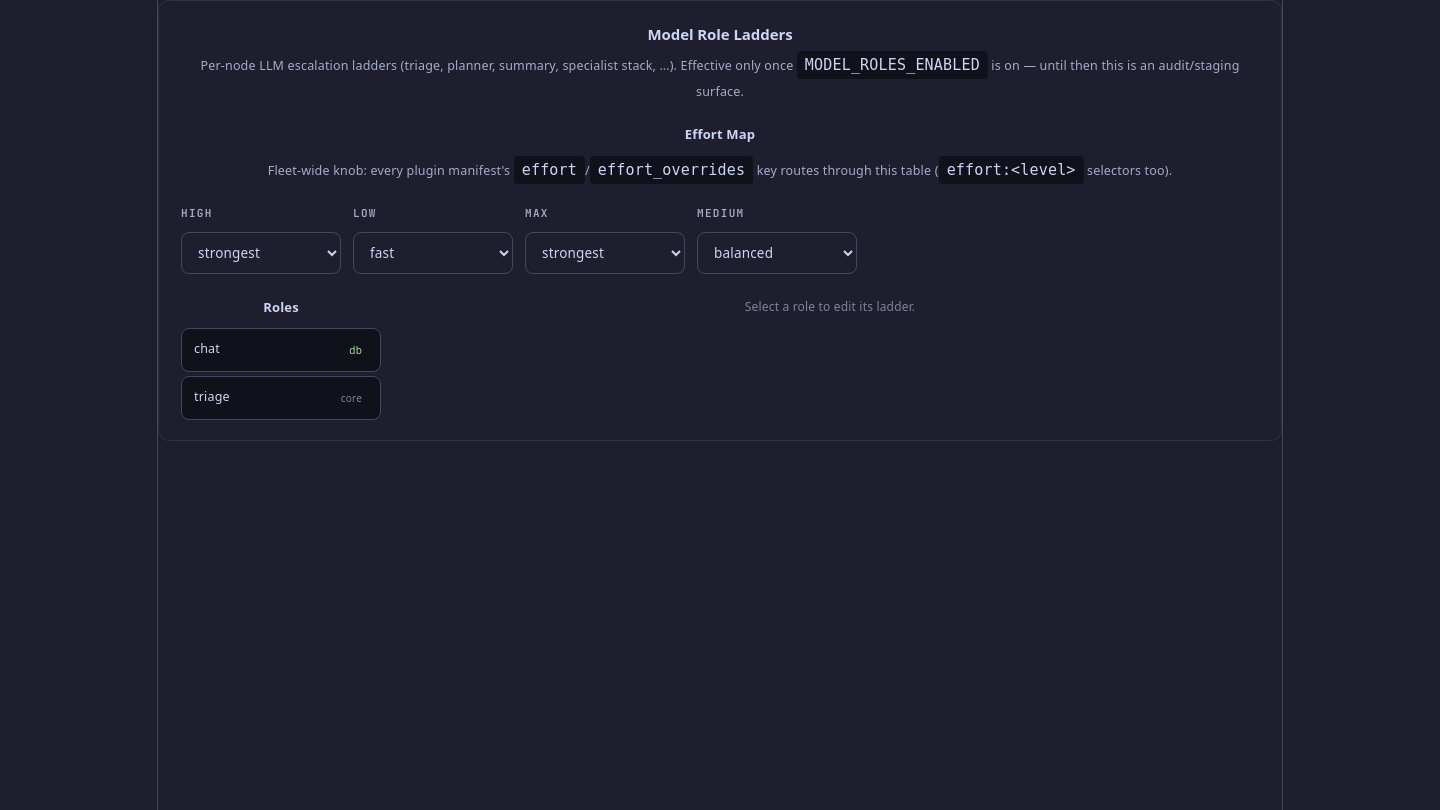
Test: ModelRoleSection Component › Reset to default only appears for source === db
Click the text "triage". click: (212, 397)
box: [194,384,230,410]
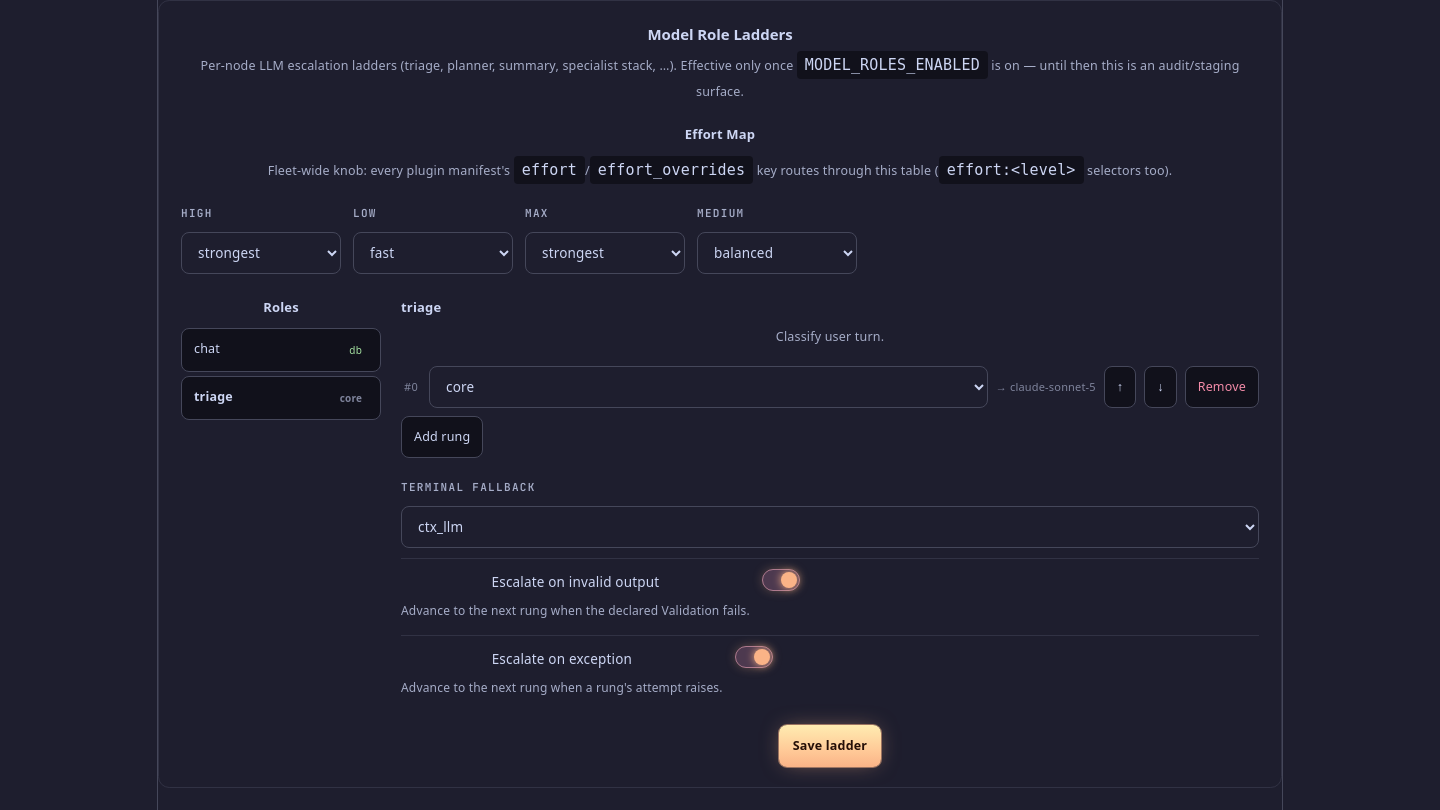
Expected: the text "Reset to default" is not shown
Click the text "chat". click: (207, 349)
box: [194,336,220,362]
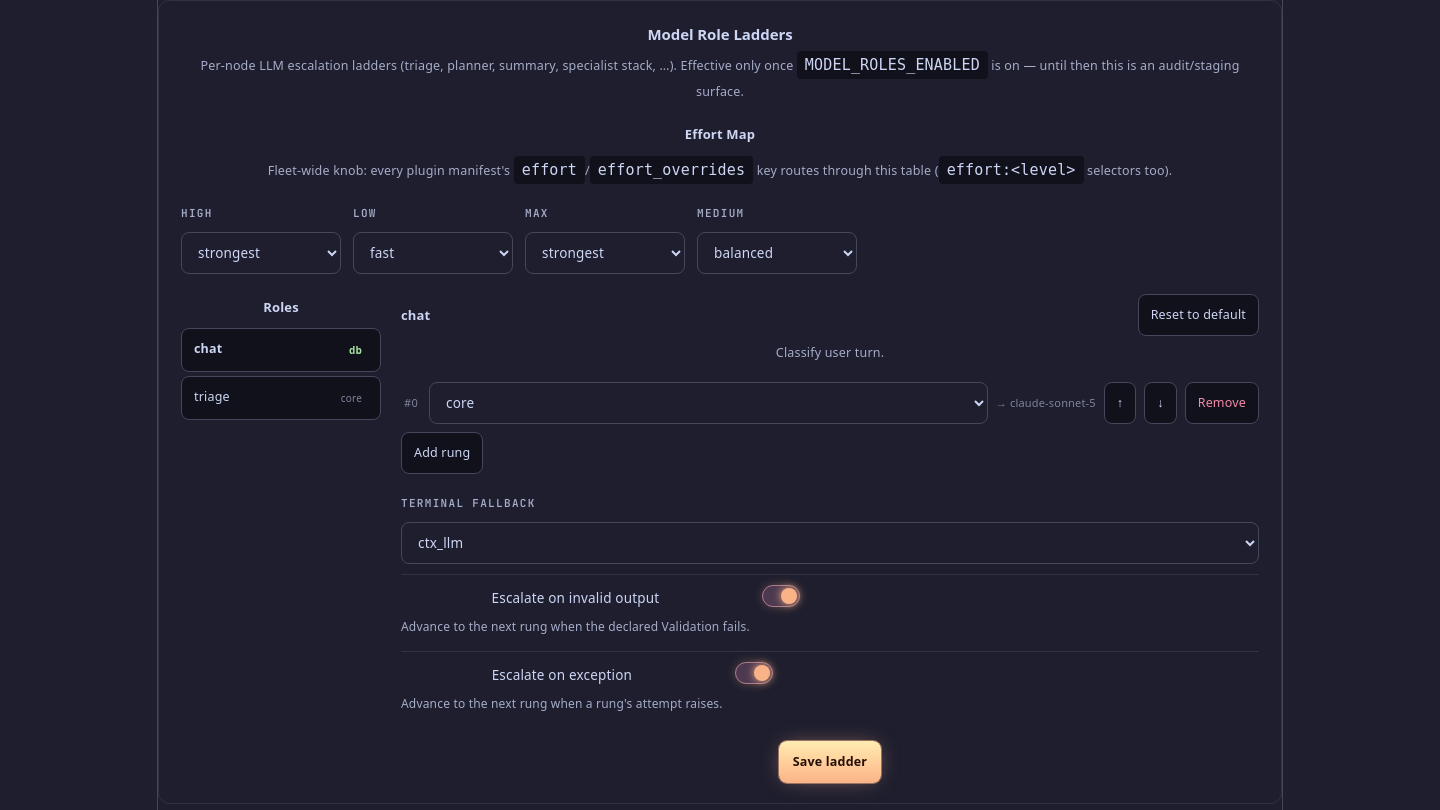
Expected: the button "Reset to default" is shown, [1138,294,1259,336]
